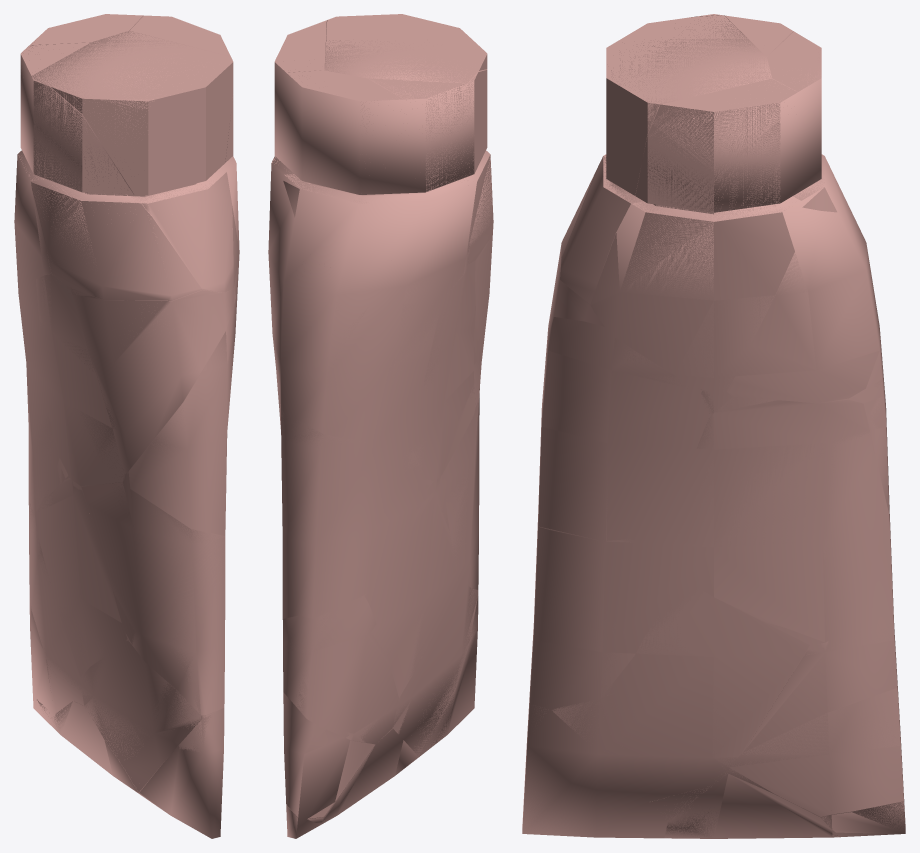
File: P_Dentifrice.fbx
The picture shows the model from 3 angles, left to right: view 1: azimuth 30°, elevation 25°; view 2: azimuth 150°, elevation 25°; view 3: azimuth 270°, elevation 25°; orthographic projection. The views are drawn at different scales.
Parts seen in each view (by area): view 1: P_Dentifrice, P_Dentifrice_cell.003, P_Dentifrice_cell.016, P_Dentifrice_cell, P_Dentifrice_cell.019, P_Dentifrice_cell.013, P_Dentifrice_cell.010, P_Dentifrice_cell.015, P_Dentifrice_cell.005, P_Dentifrice_cell.014, P_Dentifrice_cell.006, P_Dentifrice_cell.018 (+4 smaller); view 2: P_Dentifrice, P_Dentifrice_cell.003, P_Dentifrice_cell.010, P_Dentifrice_cell.011, P_Dentifrice_cell.008, P_Dentifrice_cell.014, P_Dentifrice_cell.001, P_Dentifrice_cell, P_Dentifrice_cell.018, P_Dentifrice_cell.006, P_Dentifrice_cell.019, P_Dentifrice_cell.016 (+5 smaller); view 3: P_Dentifrice, P_Dentifrice_cell.006, P_Dentifrice_cell.012, P_Dentifrice_cell.003, P_Dentifrice_cell.008, P_Dentifrice_cell.014, P_Dentifrice_cell.016, P_Dentifrice_cell.007, P_Dentifrice_cell.013, P_Dentifrice_cell.004, P_Dentifrice_cell.011, P_Dentifrice_cell.018 (+6 smaller).
Part boxes in pixels (bbox=[...]): P_Dentifrice: bbox=[14, 16, 239, 792]; P_Dentifrice_cell.003: bbox=[32, 31, 233, 292]; P_Dentifrice_cell.016: bbox=[81, 482, 225, 715]; P_Dentifrice_cell: bbox=[31, 77, 201, 300]; P_Dentifrice_cell.019: bbox=[71, 289, 235, 474]; P_Dentifrice_cell.013: bbox=[123, 331, 235, 535]; P_Dentifrice_cell.010: bbox=[36, 274, 124, 486]; P_Dentifrice_cell.015: bbox=[139, 708, 224, 838]; P_Dentifrice_cell.005: bbox=[81, 654, 204, 792]; P_Dentifrice_cell.014: bbox=[40, 478, 127, 676]; P_Dentifrice_cell.006: bbox=[130, 15, 239, 287]; P_Dentifrice_cell.018: bbox=[30, 14, 143, 45]; P_Dentifrice: bbox=[268, 20, 493, 838]; P_Dentifrice_cell.003: bbox=[325, 14, 487, 83]; P_Dentifrice_cell.010: bbox=[413, 261, 475, 479]; P_Dentifrice_cell.011: bbox=[282, 595, 389, 742]; P_Dentifrice_cell.008: bbox=[283, 692, 375, 818]; P_Dentifrice_cell.014: bbox=[364, 476, 456, 697]; P_Dentifrice_cell.001: bbox=[368, 78, 475, 303]; P_Dentifrice_cell: bbox=[468, 70, 493, 264]; P_Dentifrice_cell.018: bbox=[283, 70, 403, 217]; P_Dentifrice_cell.006: bbox=[271, 20, 326, 164]; P_Dentifrice_cell.019: bbox=[474, 236, 492, 406]; P_Dentifrice_cell.016: bbox=[442, 415, 479, 589]; P_Dentifrice: bbox=[522, 15, 905, 838]; P_Dentifrice_cell.006: bbox=[591, 78, 797, 392]; P_Dentifrice_cell.012: bbox=[676, 397, 870, 642]; P_Dentifrice_cell.003: bbox=[560, 15, 771, 304]; P_Dentifrice_cell.008: bbox=[729, 688, 904, 816]; P_Dentifrice_cell.014: bbox=[636, 588, 809, 766]; P_Dentifrice_cell.016: bbox=[529, 495, 635, 701]; P_Dentifrice_cell.007: bbox=[727, 254, 879, 403]; P_Dentifrice_cell.013: bbox=[538, 318, 681, 540]; P_Dentifrice_cell.004: bbox=[664, 774, 838, 838]; P_Dentifrice_cell.011: bbox=[745, 593, 896, 749]; P_Dentifrice_cell.018: bbox=[767, 31, 836, 212].
Bounding box in the file's own units: 156 × 553 × 250.
